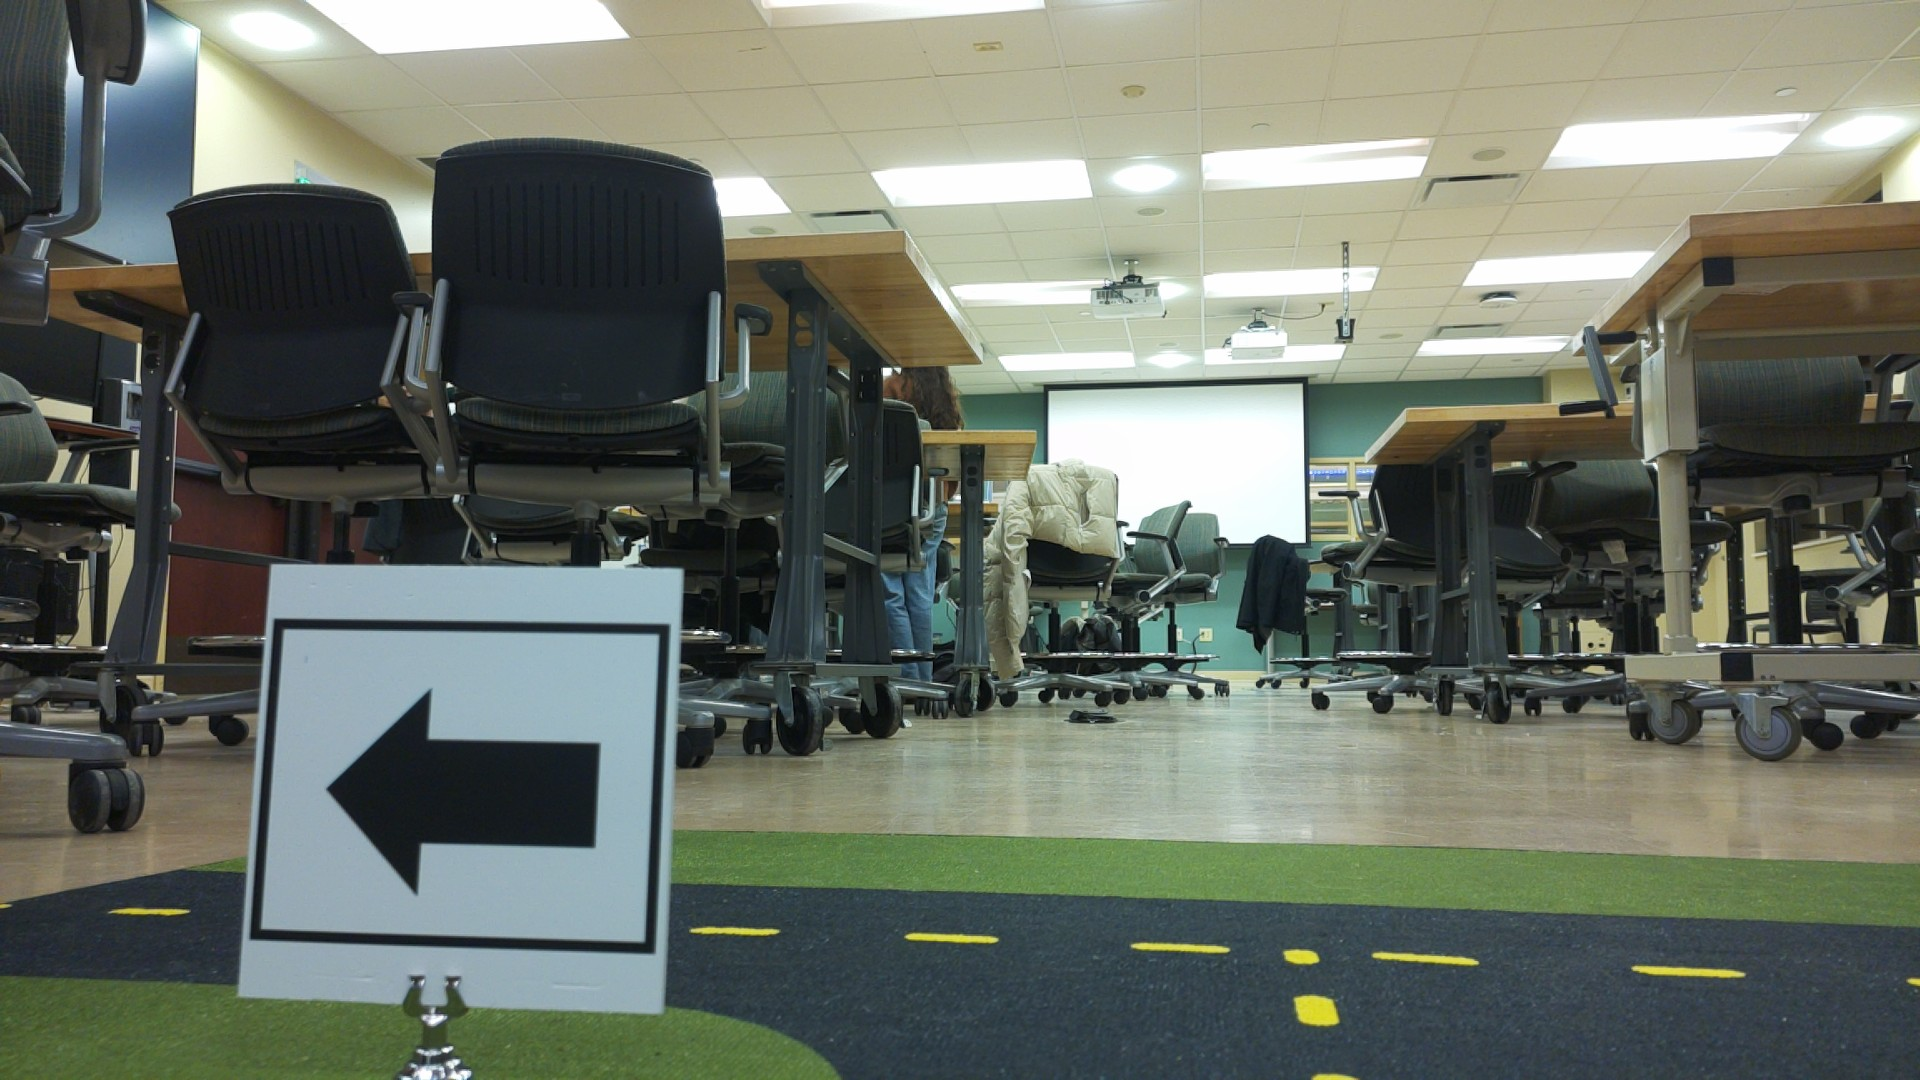turnleft: (269, 571, 669, 996)
